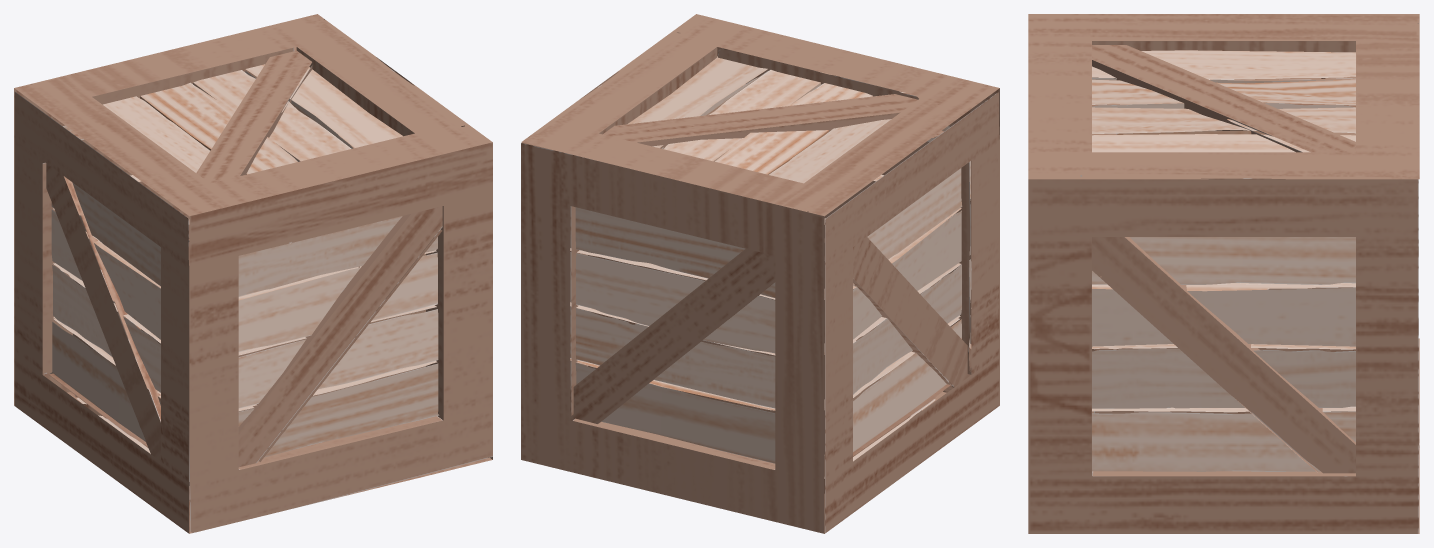
The picture shows the model from 3 angles, left to right: view 1: azimuth 30°, elevation 25°; view 2: azimuth 150°, elevation 25°; view 3: azimuth 270°, elevation 25°; orthographic projection. The views are drawn at different scales.
Parts seen in each view (by area): view 1: Crate14; view 2: Crate14; view 3: Crate14.
Part boxes in pixels (<box>): Crate14: <box>14,14,492,533</box>; Crate14: <box>521,14,999,533</box>; Crate14: <box>1028,14,1419,533</box>.
Bounding box in the file's own units: 78.74 × 78.74 × 78.74.
Materials: 1 (1 with a texture image).
